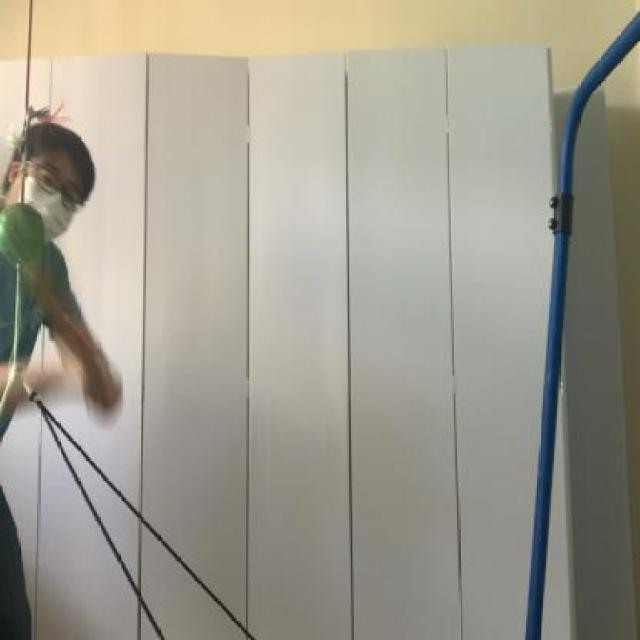baseball: (0, 190, 57, 278)
